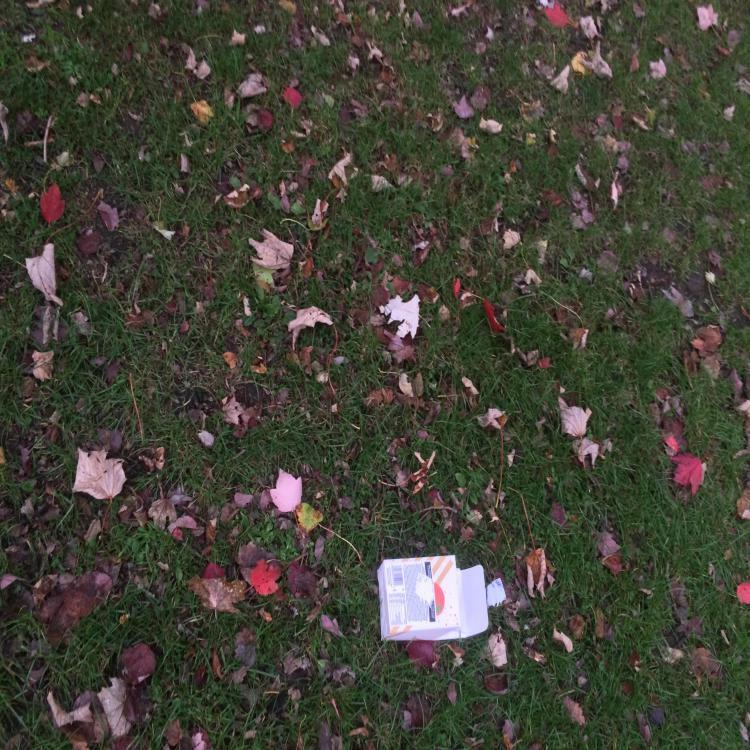Plastic film: (485, 578, 506, 610)
